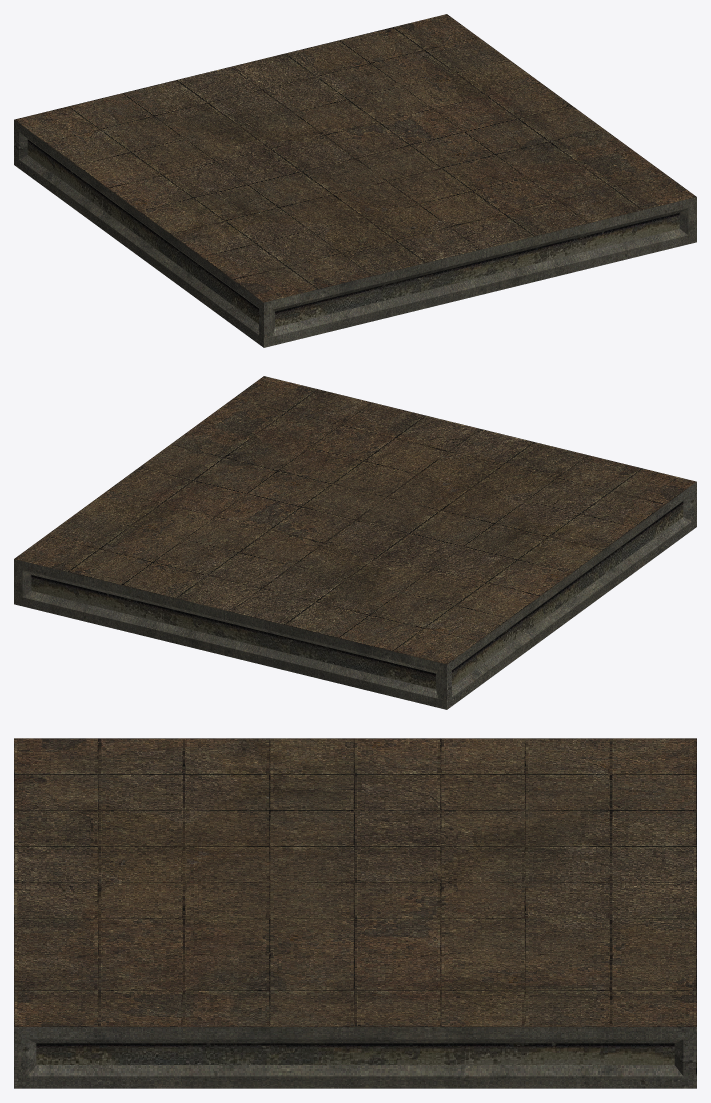
File: floor_ceiling_hr_4.glb
3 views of the same model, one above another, from view 1: azimuth 30°, elevation 25°; view 2: azimuth 150°, elevation 25°; view 3: azimuth 270°, elevation 25° (orthographic). The views are drawn at different scales.
Visible parts, largest first — view 1: floor_ceiling_hr_4; view 2: floor_ceiling_hr_4; view 3: floor_ceiling_hr_4.
Boxes of the visible parts, x1,y1,x2,y2 form: floor_ceiling_hr_4: [14, 14, 696, 347]; floor_ceiling_hr_4: [14, 376, 696, 709]; floor_ceiling_hr_4: [14, 738, 696, 1088].
Size of the model in its own units: 4 by 0.4 by 4.
Materials: 3 (3 with a texture image).
